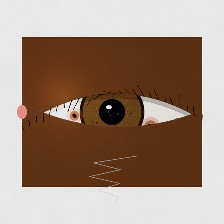foreign_body_visible: (131, 111, 171, 143)
